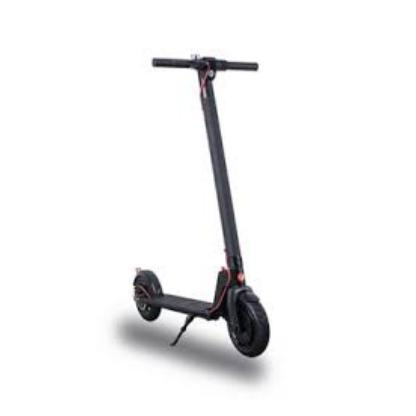bike: (131, 56, 270, 359)
